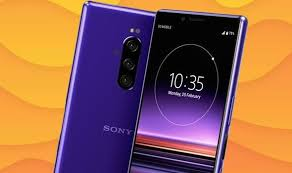sony: (54, 1, 158, 173), (141, 1, 245, 173)
